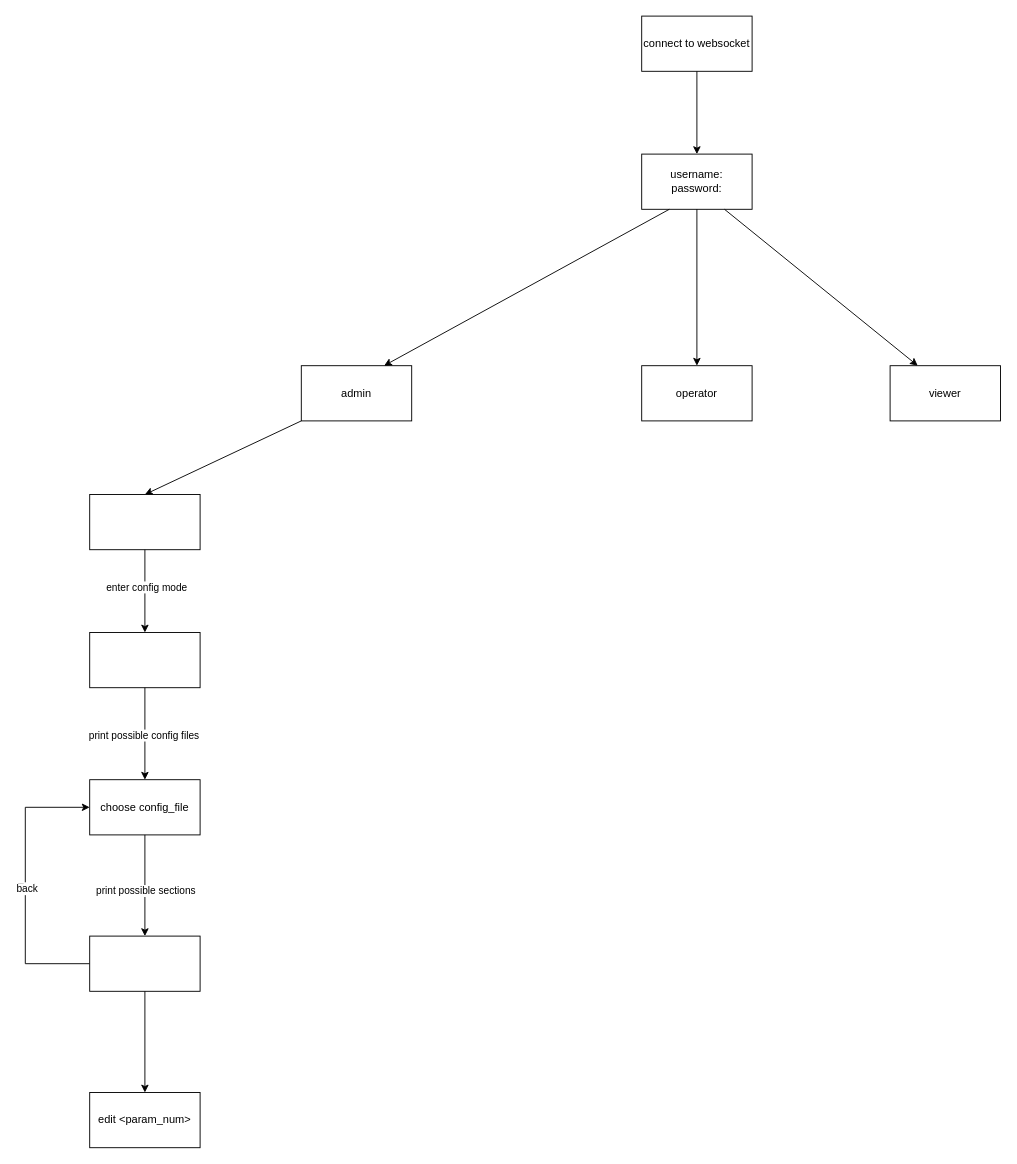
The diagram is 1017 pixels wide and 1164 high, and some of its shapes have lost their labels. The centre of each missing label's shape, as x and y in pixels:
"choose section" goes at point (144, 963).
"config" goes at point (144, 522).
"show" goes at point (144, 660).
